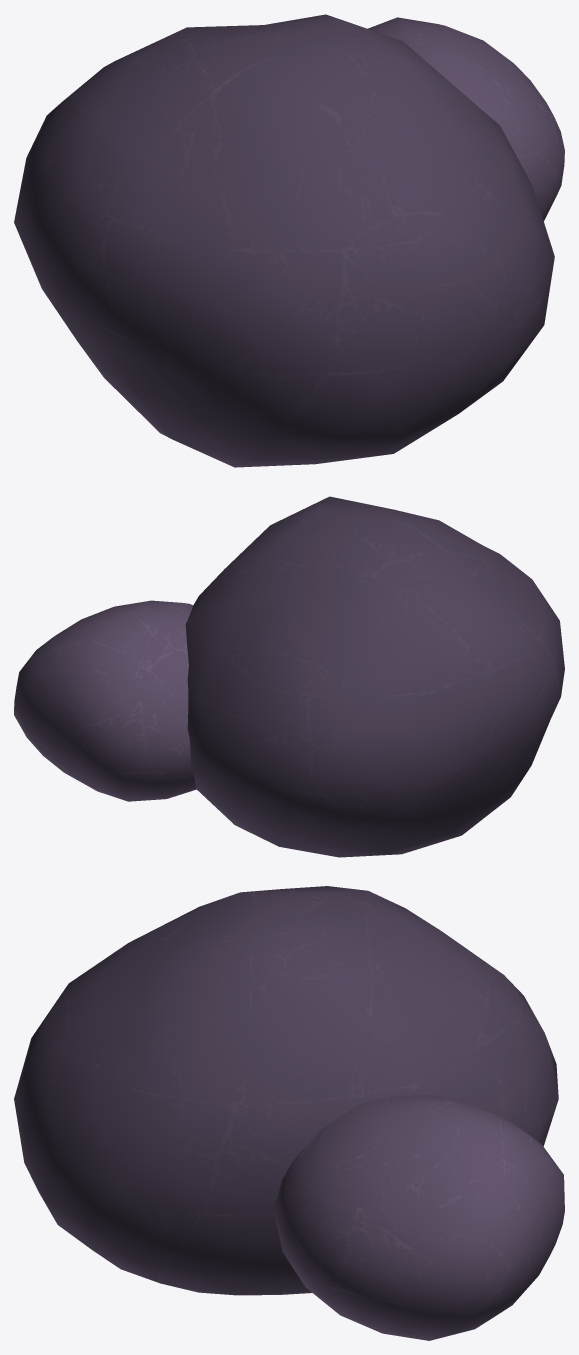
The model's file is vol_rock_b.glb.
3 views of the same model, one above another, from view 1: azimuth 30°, elevation 25°; view 2: azimuth 150°, elevation 25°; view 3: azimuth 270°, elevation 25° (orthographic). The views are drawn at different scales.
Visible parts, largest first — view 1: vol_rock_b; view 2: vol_rock_b; view 3: vol_rock_b.
Boxes of the visible parts, x1,y1,x2,y2 form: vol_rock_b: (14, 14, 564, 467); vol_rock_b: (14, 496, 564, 857); vol_rock_b: (14, 886, 564, 1340).
Size of the model in its own units: 0.7529 by 0.4979 by 0.6716.
2 materials, 2 textured.
